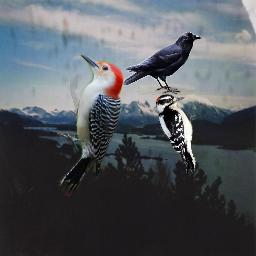Crow: (122, 32, 201, 95)
Woodpecker: (57, 53, 124, 196), (156, 94, 196, 174)
